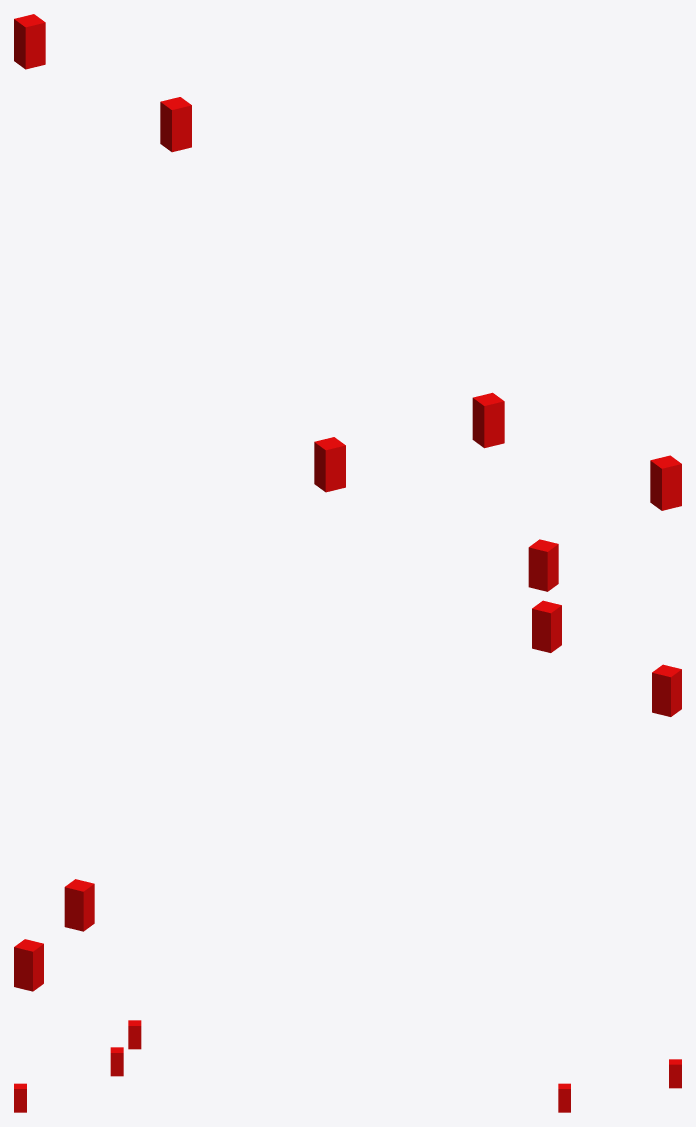
The model's file is M10_Enemies.fbx.
3 views of the same model, one above another, from view 1: azimuth 30°, elevation 25°; view 2: azimuth 150°, elevation 25°; view 3: azimuth 270°, elevation 25° (orthographic). The views are drawn at different scales.
Parts seen in each view (by area): view 1: Enemy4, Enemy1, Enemy5, Enemy2, Enemy3; view 2: Enemy1, Enemy3, Enemy4, Enemy5, Enemy2; view 3: Enemy4, Enemy5, Enemy1, Enemy2, Enemy3.
Boxes of the visible parts, x1=… form: Enemy4: x1=472, y1=392, x2=504, y2=448; Enemy1: x1=160, y1=97, x2=191, y2=152; Enemy5: x1=314, y1=437, x2=345, y2=492; Enemy2: x1=14, y1=14, x2=45, y2=69; Enemy3: x1=650, y1=455, x2=681, y2=510; Enemy1: x1=64, y1=879, x2=94, y2=931; Enemy3: x1=528, y1=539, x2=558, y2=591; Enemy4: x1=532, y1=600, x2=561, y2=652; Enemy5: x1=652, y1=664, x2=681, y2=716; Enemy2: x1=14, y1=939, x2=43, y2=991; Enemy4: x1=110, y1=1047, x2=123, y2=1076; Enemy5: x1=128, y1=1020, x2=141, y2=1049; Enemy1: x1=558, y1=1083, x2=570, y2=1112; Enemy2: x1=669, y1=1059, x2=681, y2=1088; Enemy3: x1=14, y1=1083, x2=26, y2=1112.
Size of what is drawn, in the model's own units: 25.15 by 6 by 103.
